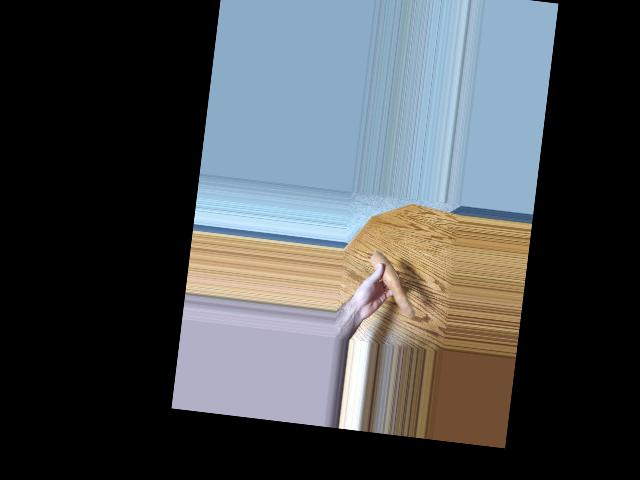sweet_potato: (363, 255, 419, 317)
